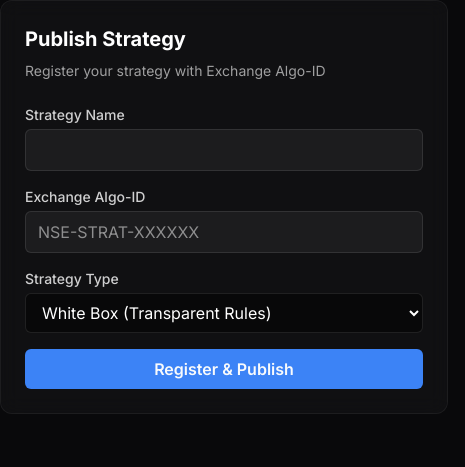
Test case: StrategyPublishForm Component › shows warning for black box without RA
The width and height of the screenshot is (465, 467).
Select "Black Box (Proprietary / AI)" in the dropdown at (224, 313), box 25,293 -> 423,333
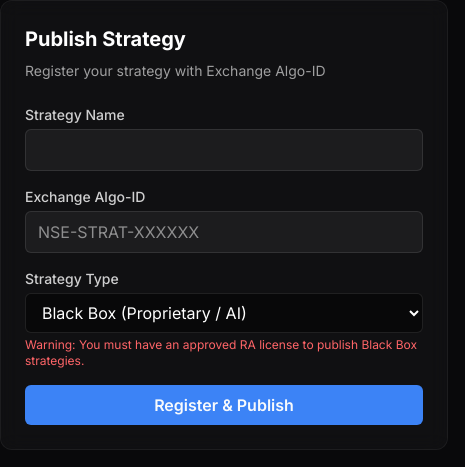
Expected: the text "Warning: You must have an approved RA license" is shown, 25,337 -> 417,368
